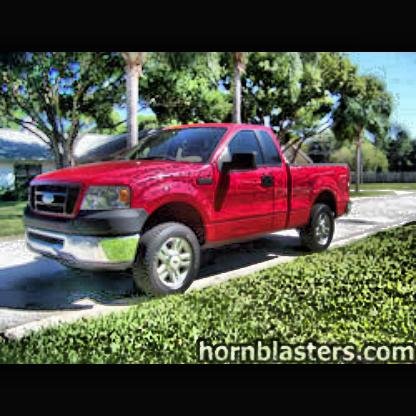Ford F-150 Regular Cab 2007: (24, 127, 355, 300)
